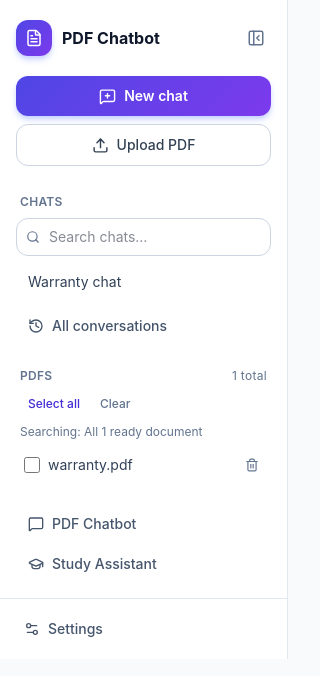
it: Sidebar conversation search › says when nothing matches
The image size is (320, 676).
In the search field named "Search conversations": (144, 237) 16,218 -> 271,256, type "zebra"
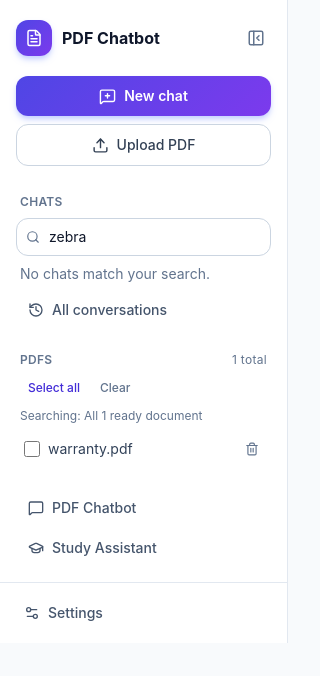
Check: the text "No chats match your search." is shown, box 20,265 -> 210,282
